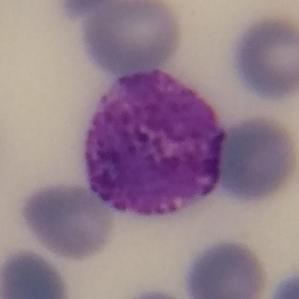Basophil: (71, 62, 234, 232)
RBC: (76, 0, 185, 74), (212, 113, 299, 205), (19, 180, 117, 261), (226, 12, 299, 104), (179, 236, 271, 299), (0, 246, 73, 299), (53, 0, 133, 20), (115, 286, 197, 299), (263, 269, 298, 299)
